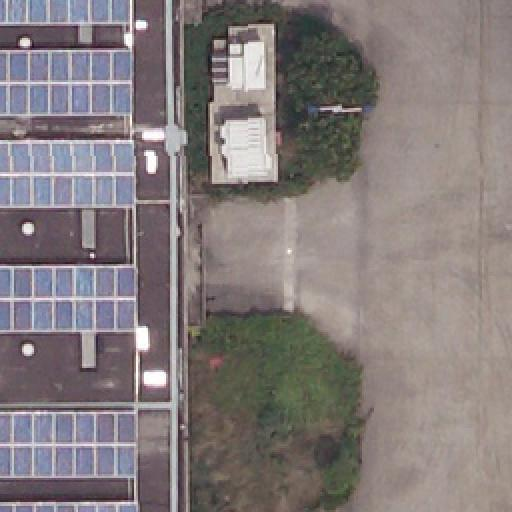solar-panel: (0, 410, 136, 478), (1, 140, 135, 208), (0, 263, 136, 329), (1, 51, 135, 117), (0, 0, 132, 24), (0, 505, 136, 511)
